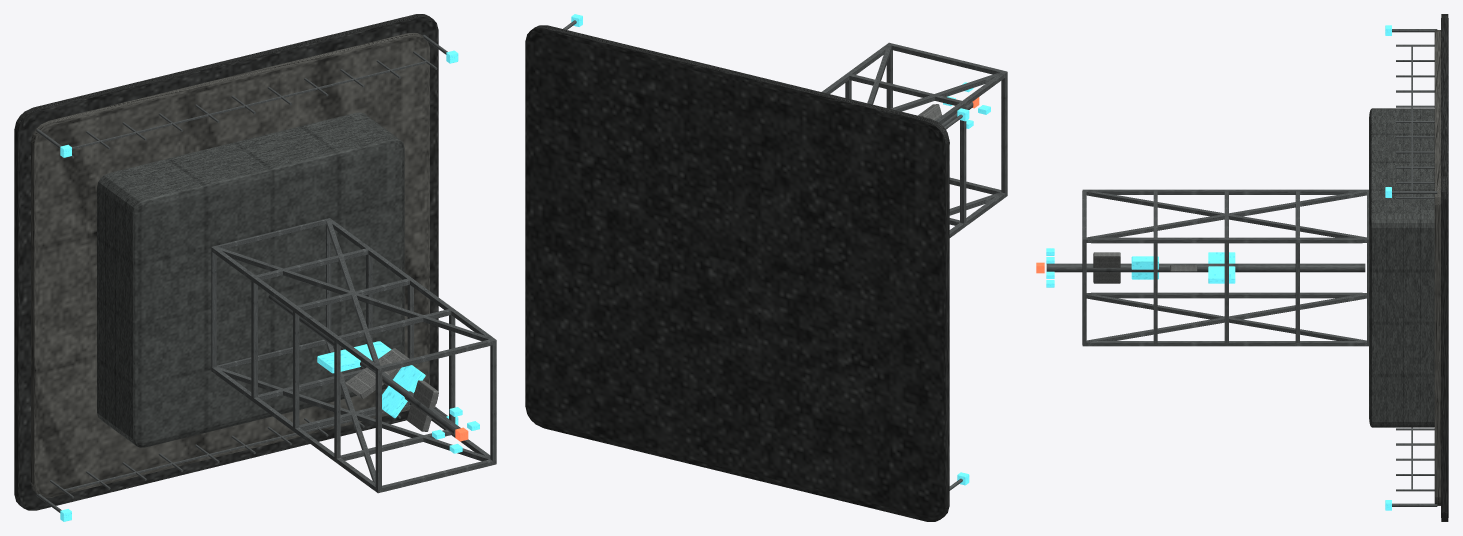
File: b-23-sensor-tower-lod0.glb
3 views of the same model, side by side, from view 1: azimuth 30°, elevation 25°; view 2: azimuth 150°, elevation 25°; view 3: azimuth 270°, elevation 25° (orthographic). The views are drawn at different scales.
Visible parts, largest first — view 1: bunker_main, foundation_inner_pad, foundation, sensor_tower_frame_brace_a_1.5, sensor_tower_frame_brace_a_-1.5, sensor_tower_frame_column_w_n, sensor_tower_frame_column_w_s, sensor_tower_frame_column_e_n, tower_main_sensor_main, tower_main_sensor_array_2, tower_main_sensor_array_1, sensor_tower_frame_brace_b_1.5 (+19 smaller); view 2: foundation, sensor_tower_frame_beam_y_4_w, sensor_tower_frame_beam_x_4_n, sensor_tower_frame_beam_x_3_n, sensor_tower_frame_beam_y_3_w, sensor_tower_frame_brace_b_1.5, sensor_tower_frame_column_w_n; view 3: bunker_main, foundation, foundation_inner_pad, tower_main_sensor_main, sensor_tower_frame_column_e_n, sensor_tower_frame_column_w_s, sensor_tower_frame_column_e_s, sensor_tower_frame_brace_b_1.5, sensor_tower_frame_brace_a_1.5, sensor_tower_frame_brace_b_-1.5, sensor_tower_frame_brace_a_-1.5, sensor_tower_frame_column_w_n (+7 smaller).
Boxes of the visible parts, <box> form: bunker_main: <box>97,112,404,447</box>; foundation_inner_pad: <box>31,33,429,497</box>; foundation: <box>14,14,438,510</box>; sensor_tower_frame_brace_a_1.5: <box>215,246,490,341</box>; sensor_tower_frame_brace_a_-1.5: <box>216,366,489,461</box>; sensor_tower_frame_column_w_n: <box>212,247,378,371</box>; sensor_tower_frame_column_w_s: <box>212,367,375,491</box>; sensor_tower_frame_column_e_n: <box>328,219,493,338</box>; tower_main_sensor_main: <box>268,294,460,435</box>; tower_main_sensor_array_2: <box>382,365,425,418</box>; tower_main_sensor_array_1: <box>345,348,409,398</box>; sensor_tower_frame_brace_b_1.5: <box>326,219,380,366</box>; foundation: <box>525,25,949,521</box>; sensor_tower_frame_beam_y_4_w: <box>1001,70,1007,194</box>; sensor_tower_frame_beam_x_4_n: <box>890,43,1007,76</box>; sensor_tower_frame_beam_x_3_n: <box>849,74,964,107</box>; sensor_tower_frame_beam_y_3_w: <box>960,101,966,223</box>; sensor_tower_frame_brace_b_1.5: <box>890,72,1001,111</box>; sensor_tower_frame_column_w_n: <box>935,72,1005,124</box>; bunker_main: <box>1369,108,1434,427</box>; foundation: <box>1441,14,1448,521</box>; foundation_inner_pad: <box>1434,30,1440,505</box>; tower_main_sensor_main: <box>1046,263,1365,272</box>; sensor_tower_frame_column_e_n: <box>1086,237,1366,243</box>; sensor_tower_frame_column_w_s: <box>1086,292,1366,298</box>; sensor_tower_frame_column_e_s: <box>1086,341,1366,346</box>; sensor_tower_frame_brace_b_1.5: <box>1086,191,1366,238</box>; sensor_tower_frame_brace_a_1.5: <box>1086,191,1366,237</box>; sensor_tower_frame_brace_b_-1.5: <box>1086,294,1366,341</box>; sensor_tower_frame_brace_a_-1.5: <box>1087,294,1366,341</box>; sensor_tower_frame_column_w_n: <box>1086,189,1366,194</box>.
Size of what is drawn, in the model's own units: 11 by 10 by 10.87.
7 materials, 7 textured.
